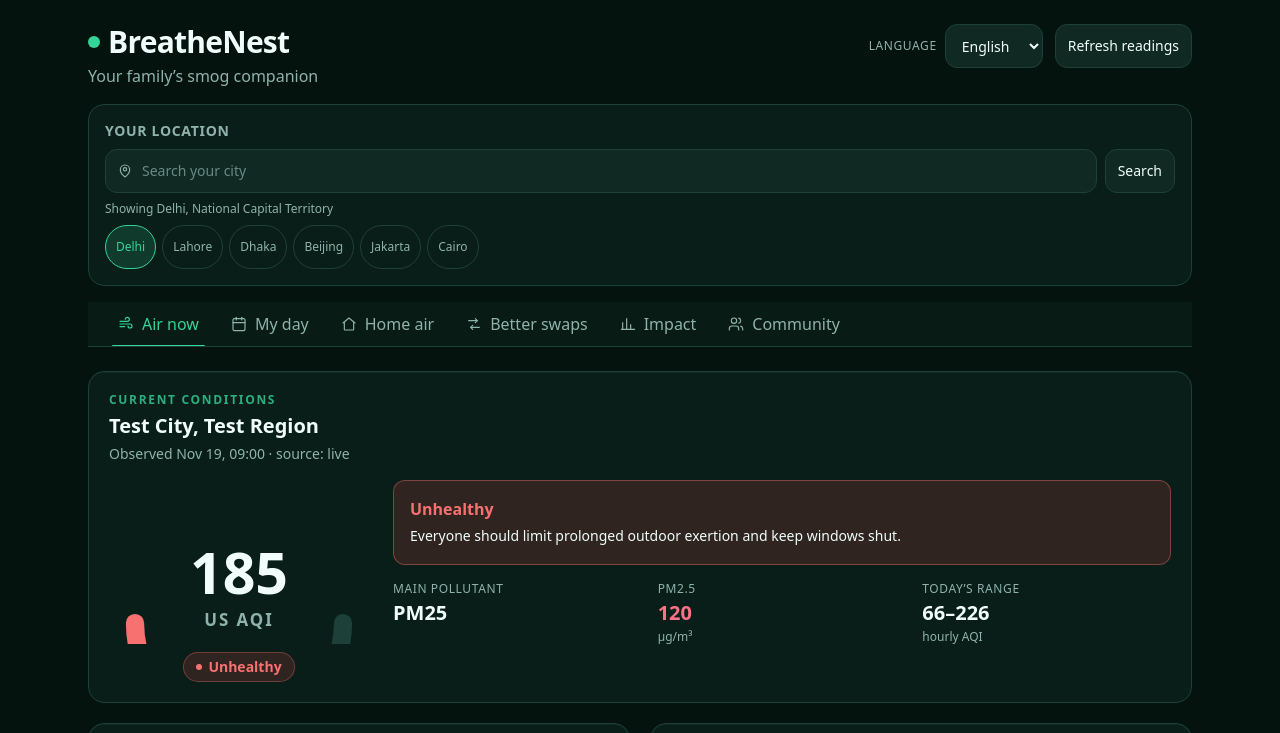
Test: routine tab — deterministic fallback › builds a complete local plan when the gateway is unavailable
Click the tab "My day" at (270, 324), box [217,302,323,346]
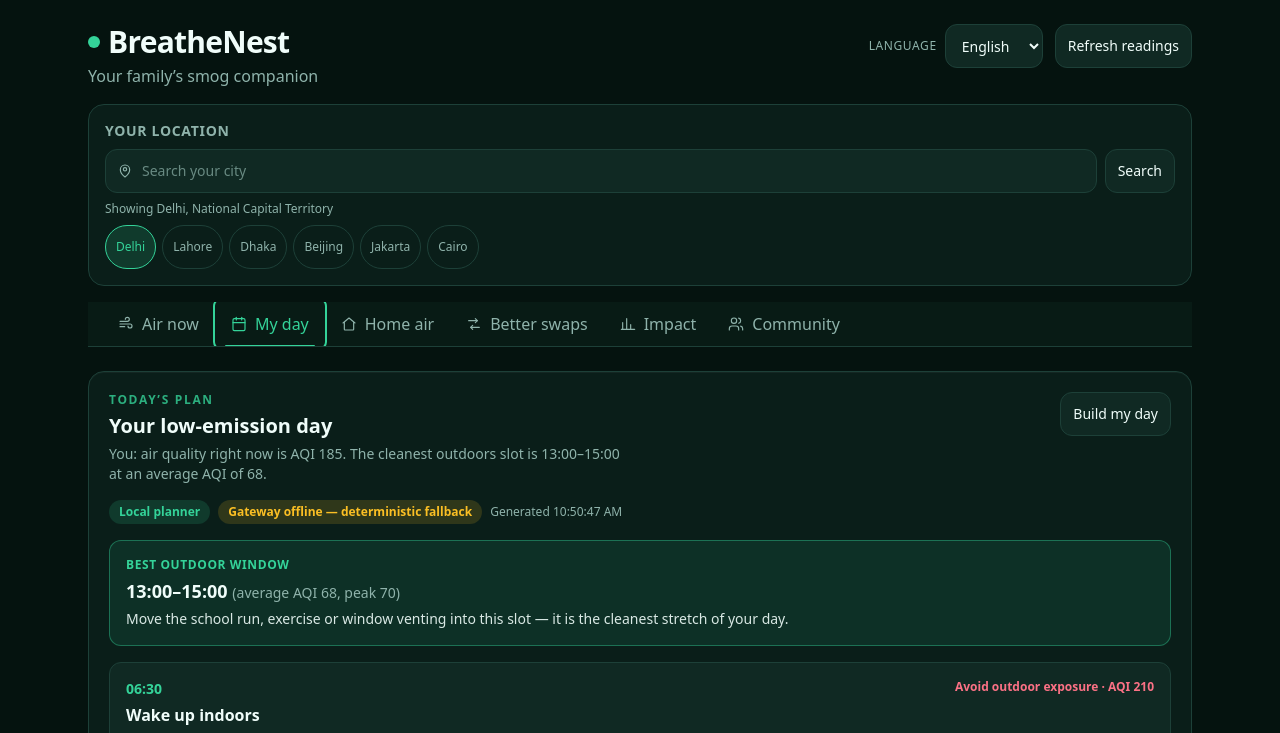
Expected: the heading "Your low-emission day" is shown, [109,412,332,439]
Expected: the text "Local planner" is shown, [109,500,210,524]
Expected: the text "Gateway offline — deterministic fallback" is shown, [218,500,482,524]
